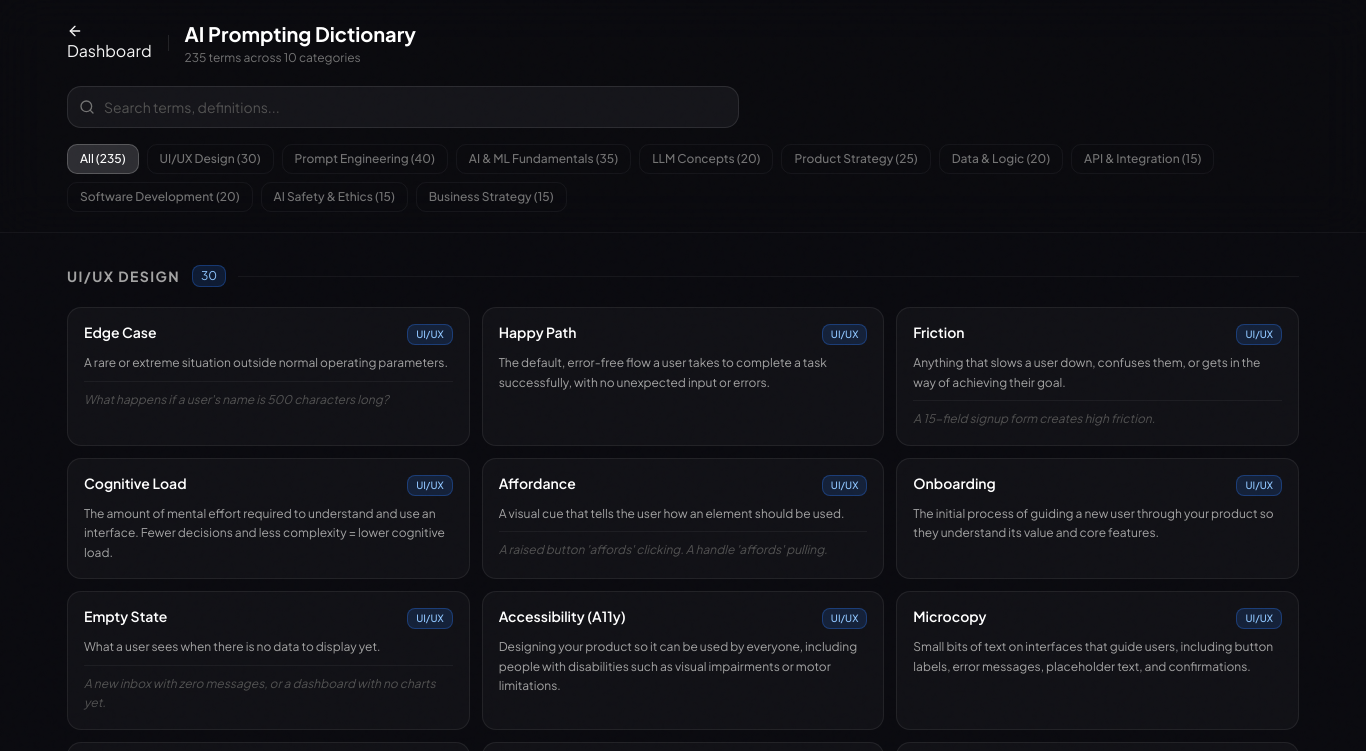
Scenario: AI Prompting Dictionary › category tabs filter correctly › shows only Prompt Engineering terms when that tab is active
Click the button "Prompt Engineering (40)" at x=365, y=159, box [282,144,448,174]
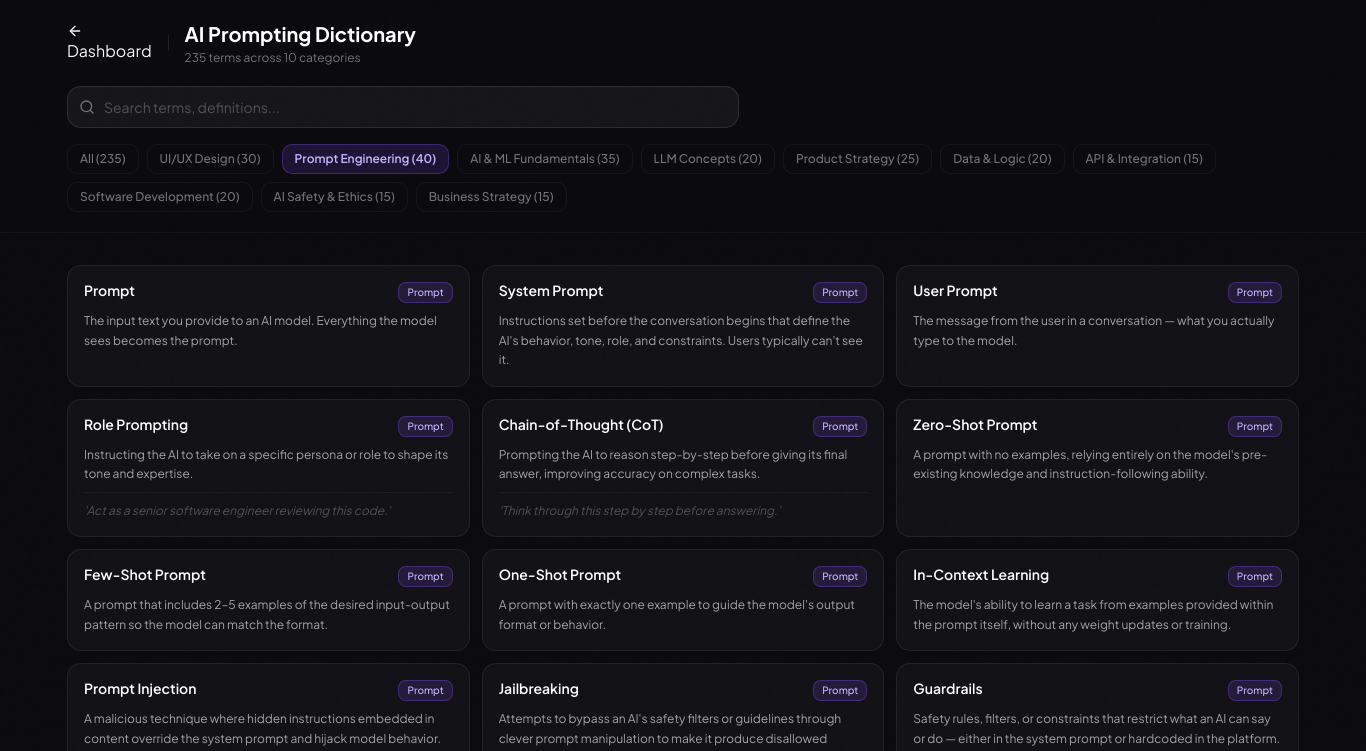
Expected: the heading "Chain-of-Thought (CoT)" is shown, [499,416,664,433]
Now the heading "Edge Case" is gone
